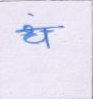anusvara: (28, 13, 34, 17)
